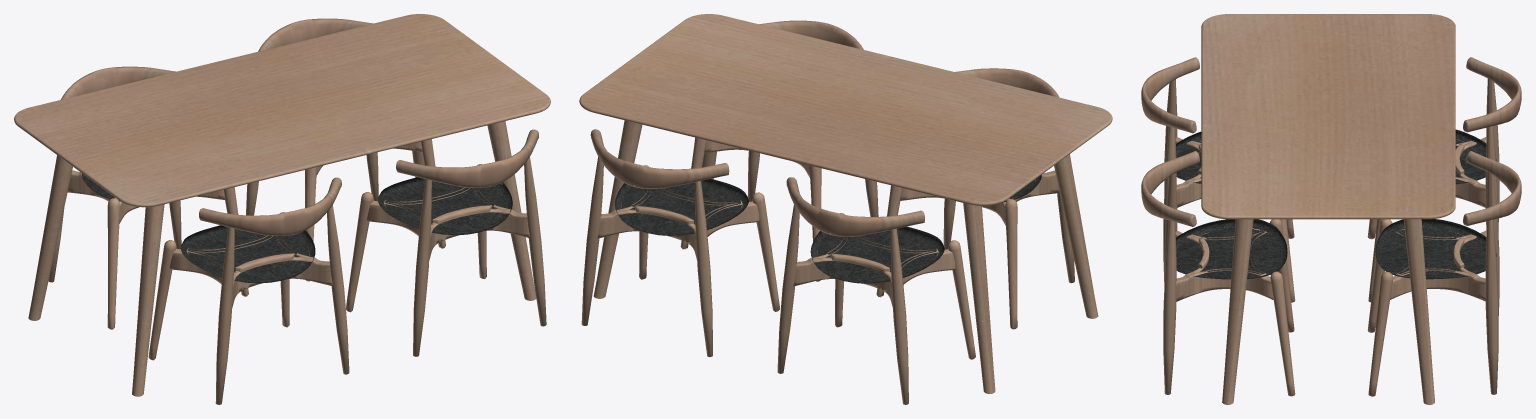
The model's file is dining_table.glb.
3 renders of one model, left to right at view 1: azimuth 30°, elevation 25°; view 2: azimuth 150°, elevation 25°; view 3: azimuth 270°, elevation 25°, orthographic. The views are drawn at different scales.
Visible parts, largest first — view 1: Geom3D (×7), Geom3D_Komponenta#86 (×3); view 2: Geom3D (×7), Geom3D_Komponenta#86 (×3); view 3: Geom3D (×9), Geom3D_Komponenta#86 (×2).
Part boxes in pixels (x1,y1,x2,y2): Geom3D (×7): (14,14,550,404); Geom3D_Komponenta#86 (×3): (28,121,536,396); Geom3D (×7): (579,14,1112,404); Geom3D_Komponenta#86 (×3): (593,120,1098,393); Geom3D (×9): (1141,14,1521,396); Geom3D_Komponenta#86 (×2): (1222,219,1434,404).
Bounding box in the file's own units: 1.7 × 0.76 × 1.35.
3 materials, 3 textured.
